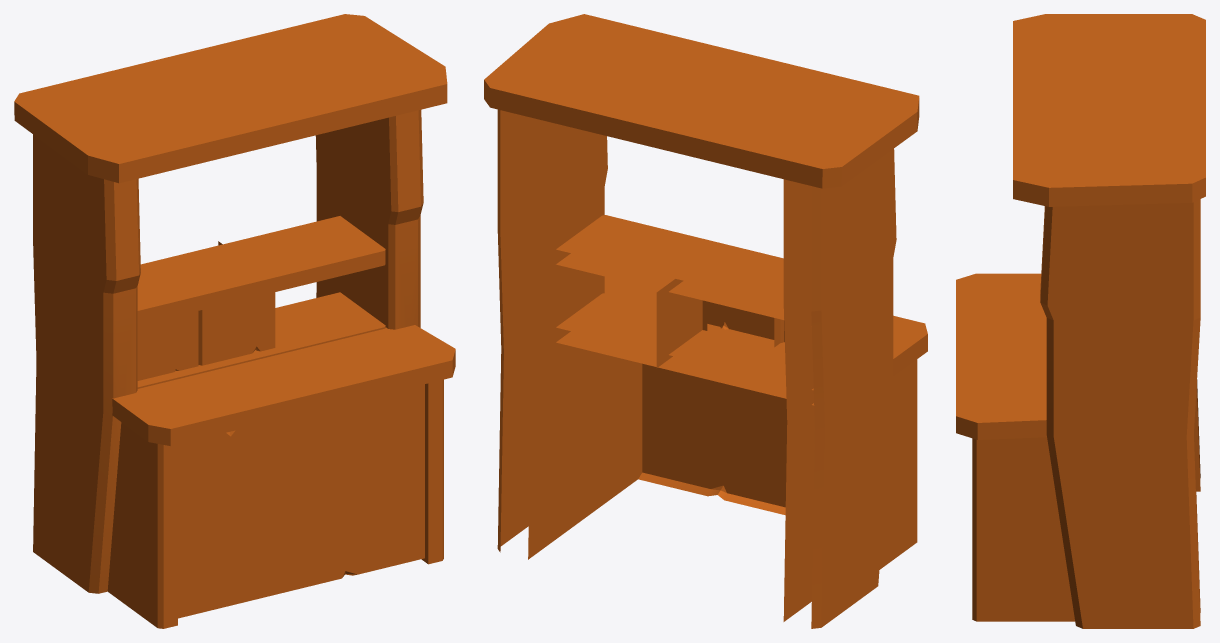
Rendered from CastingRoom_Shelf.fbx.
3 views of the same model, side by side, from view 1: azimuth 30°, elevation 25°; view 2: azimuth 150°, elevation 25°; view 3: azimuth 270°, elevation 25° (orthographic). The views are drawn at different scales.
Parts seen in each view (by area): view 1: CastingRoom_Shelf; view 2: CastingRoom_Shelf; view 3: CastingRoom_Shelf.
Boxes of the visible parts, box(x1,y1,x2,y2) form: CastingRoom_Shelf: box(14, 14, 455, 628); CastingRoom_Shelf: box(484, 14, 927, 628); CastingRoom_Shelf: box(956, 14, 1205, 628).
Size of the model in its own units: 998 by 1210 by 606.
